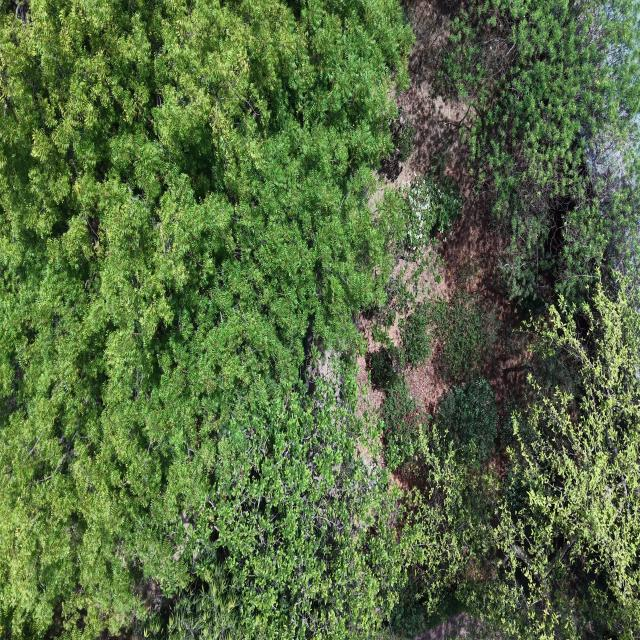DRY_AREA: (382, 0, 529, 410), (383, 0, 529, 409), (391, 0, 526, 405), (430, 198, 527, 406), (442, 199, 528, 406), (397, 0, 471, 194), (414, 614, 499, 639), (413, 614, 486, 639), (357, 356, 383, 415), (415, 614, 473, 639)
VEGETATION_TREE: (0, 0, 639, 639), (0, 0, 411, 638), (394, 0, 639, 638), (427, 0, 639, 637), (394, 279, 639, 639), (168, 368, 412, 637), (438, 0, 639, 299), (505, 278, 639, 638), (393, 382, 519, 631), (369, 292, 498, 469), (402, 290, 498, 381), (436, 378, 498, 462), (381, 379, 430, 469), (406, 172, 462, 250), (402, 303, 434, 364), (368, 345, 403, 390), (390, 109, 415, 162)
